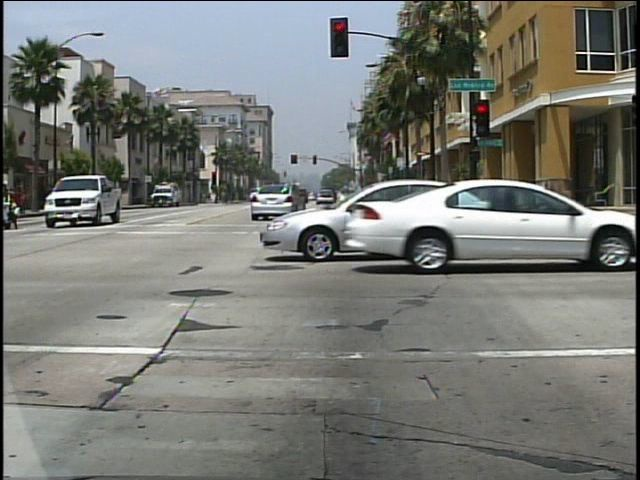person: (1, 177, 24, 232)
